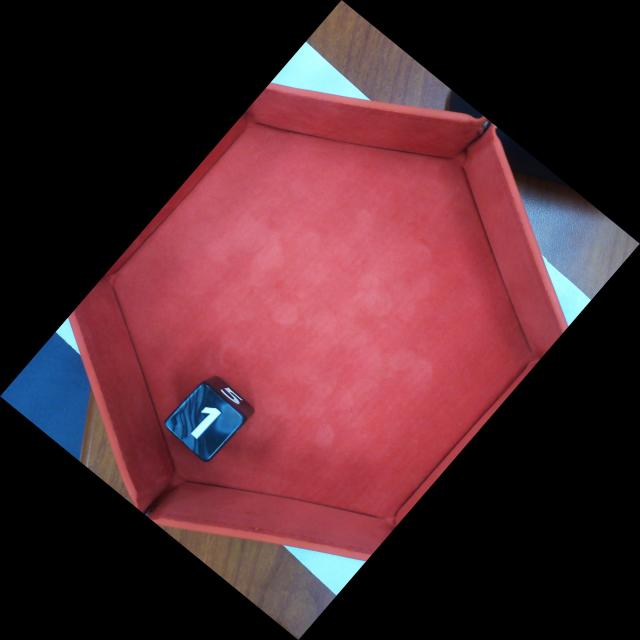dice: (167, 383, 246, 464)
